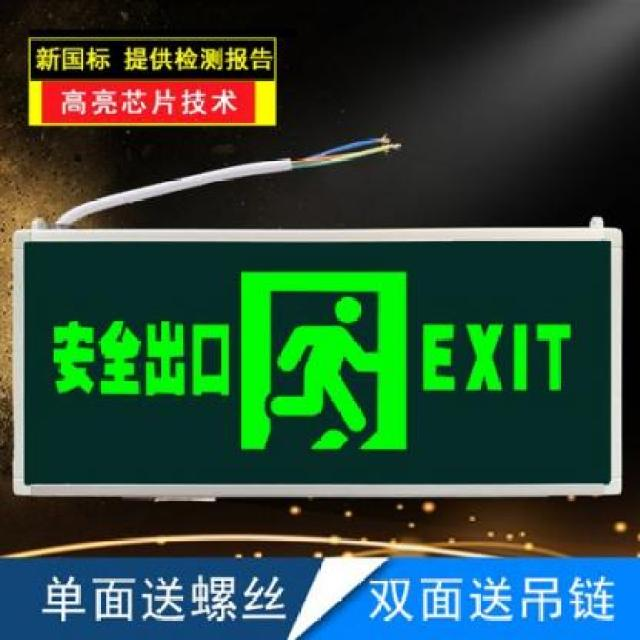exit_sign: (18, 210, 620, 512)
